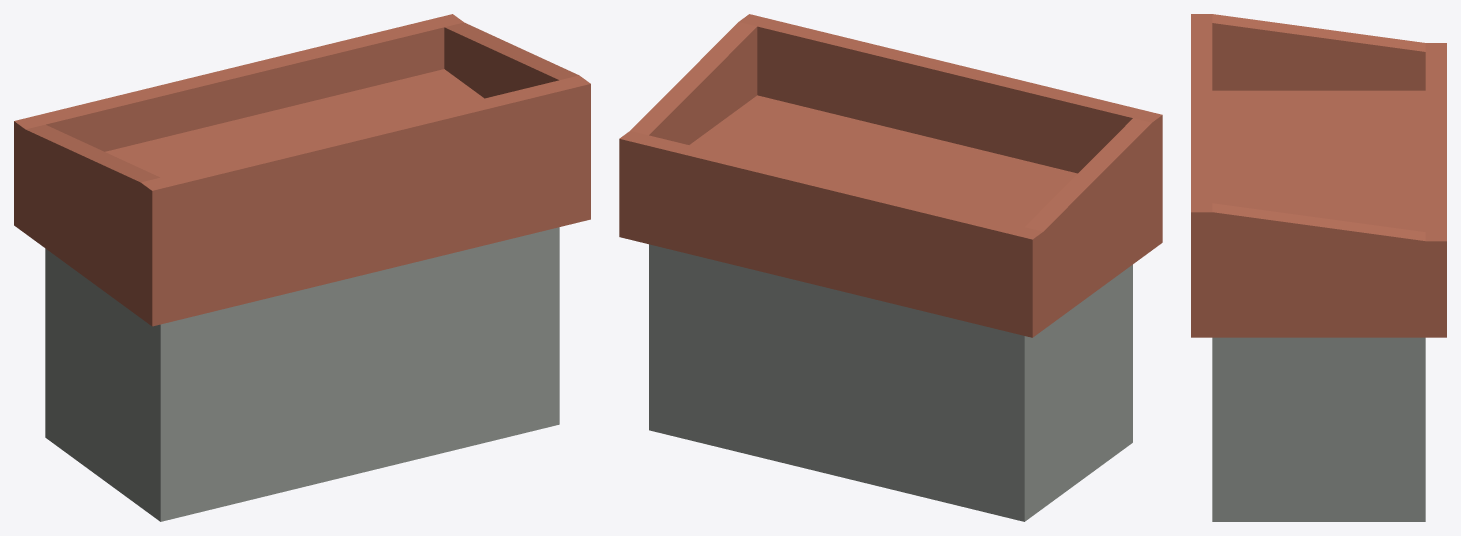
Rendered from Stand.fbx.
3 renders of one model, left to right at view 1: azimuth 30°, elevation 25°; view 2: azimuth 150°, elevation 25°; view 3: azimuth 270°, elevation 25°, orthographic. The views are drawn at different scales.
Parts seen in each view (by area): view 1: Stand; view 2: Stand; view 3: Stand.
Boxes of the visible parts, bbox=[...] form: Stand: bbox=[14, 14, 590, 521]; Stand: bbox=[619, 14, 1162, 521]; Stand: bbox=[1191, 14, 1446, 521].
Bounding box in the file's own units: 4.4 × 3.3 × 2.4.
